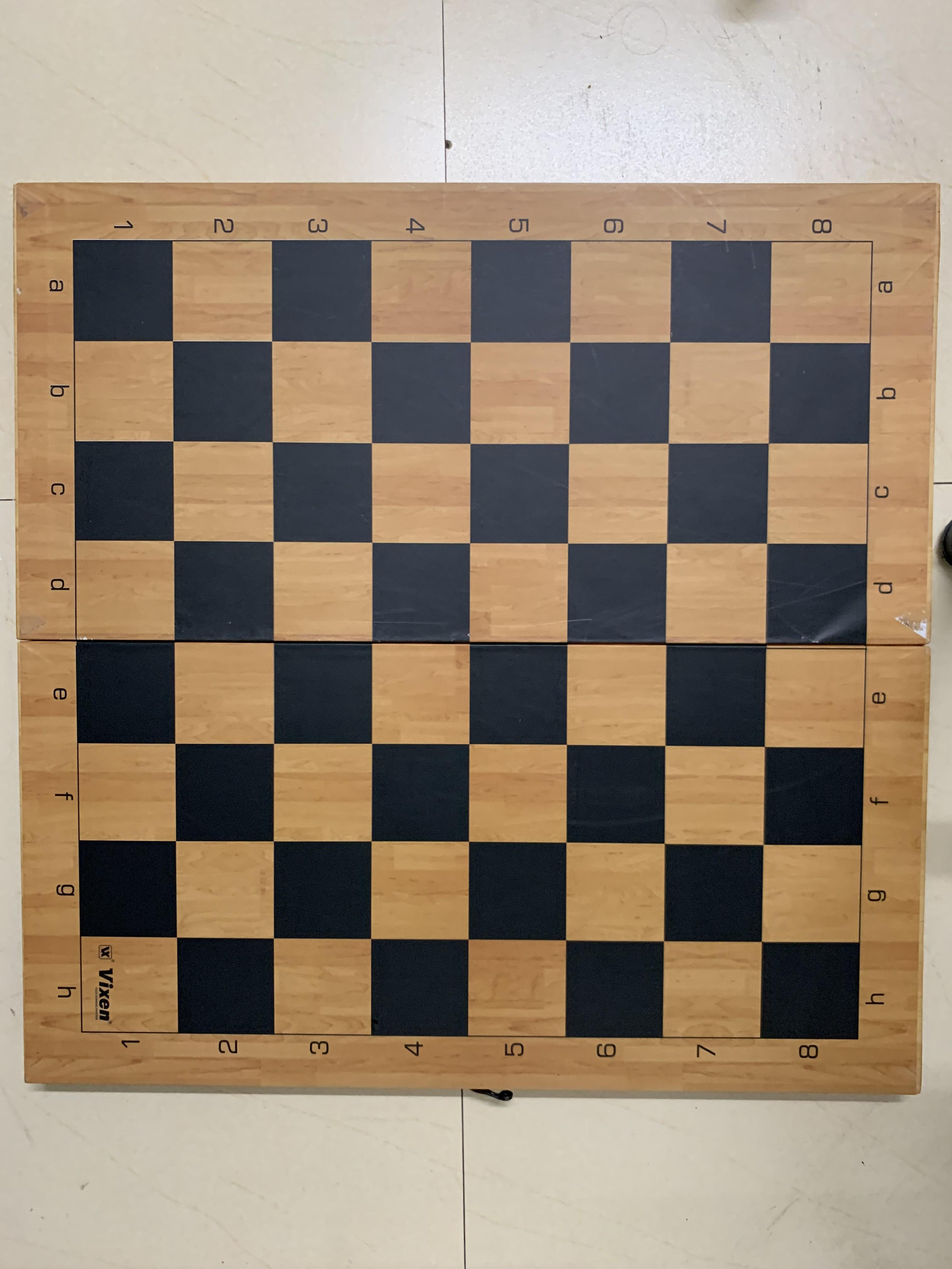empty_board: (11, 178, 926, 1096)
